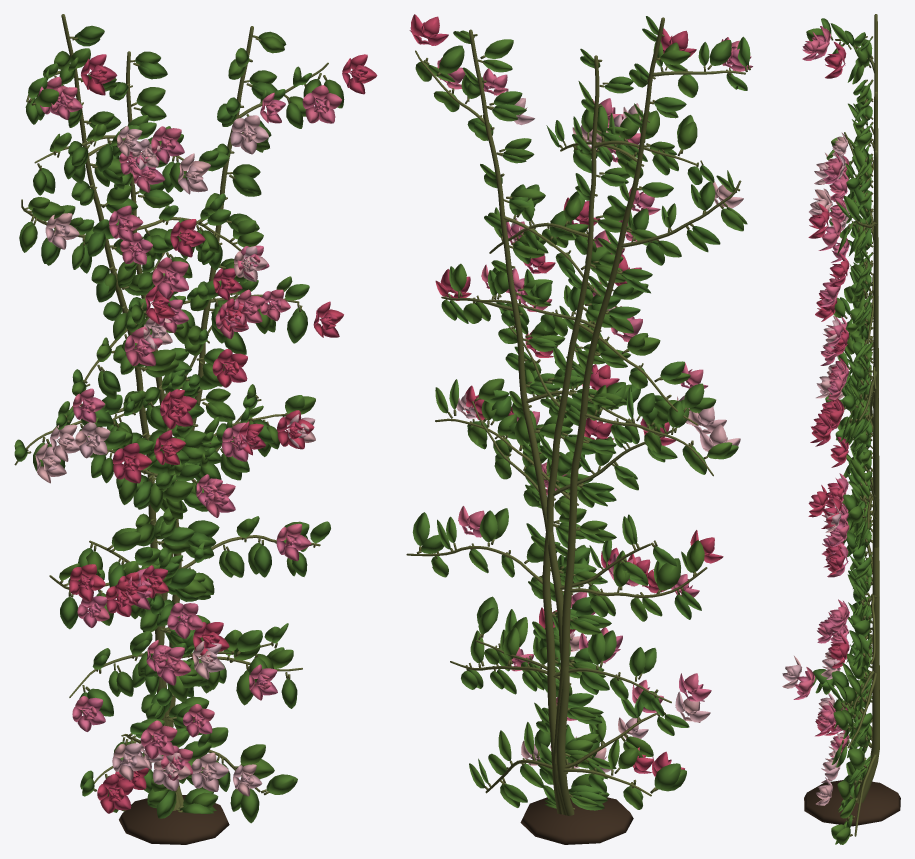
Rendered from climber_rose_30.glb.
The picture shows the model from 3 angles, left to right: view 1: azimuth 30°, elevation 25°; view 2: azimuth 150°, elevation 25°; view 3: azimuth 270°, elevation 25°; orthographic projection. The views are drawn at different scales.
Visible parts, largest first — view 1: Sammel Pflanze, Sammel Putz; view 2: Sammel Pflanze, Sammel Putz; view 3: Sammel Pflanze, Sammel Putz.
Boxes of the visible parts, left/top/right/bottom form: Sammel Pflanze: left=14, top=25, right=377, bottom=823; Sammel Putz: left=14, top=14, right=328, bottom=844; Sammel Pflanze: left=409, top=14, right=752, bottom=810; Sammel Putz: left=406, top=17, right=750, bottom=844; Sammel Pflanze: left=782, top=18, right=872, bottom=844; Sammel Putz: left=804, top=14, right=900, bottom=836.
Bounding box in the file's own units: 1.21 × 2.8 × 0.3988.
